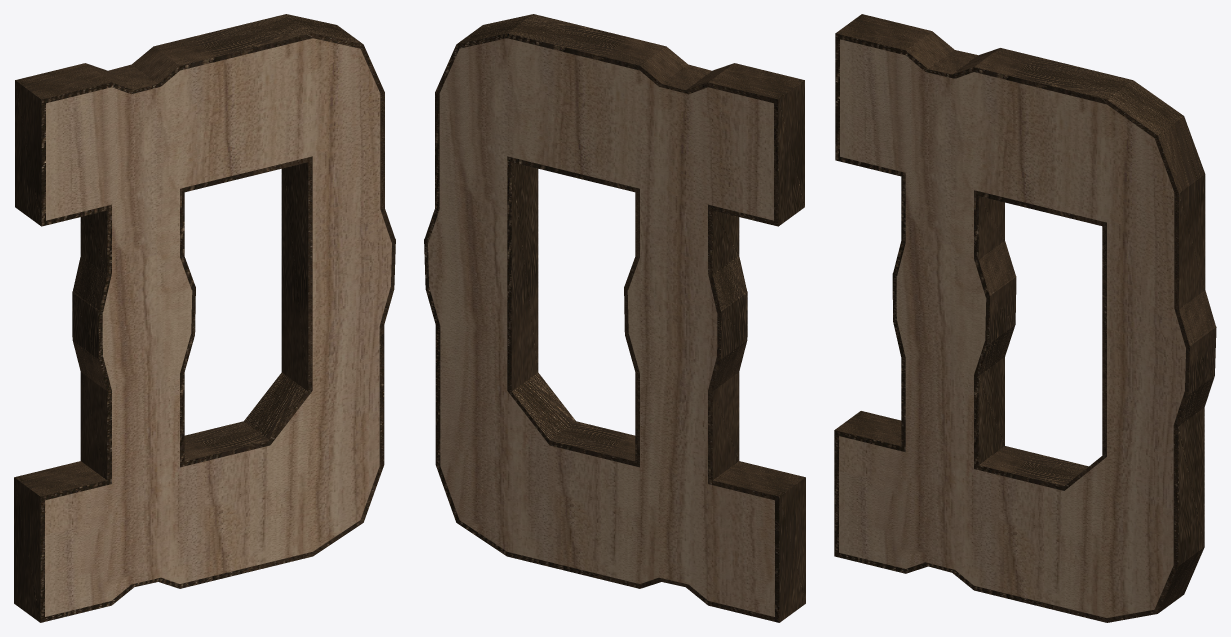
3 renders of one model, left to right at view 1: azimuth 30°, elevation 25°; view 2: azimuth 150°, elevation 25°; view 3: azimuth 330°, elevation 25°, orthographic.
Parts seen in each view (by area): view 1: D, D_outline; view 2: D, D_outline; view 3: D, D_outline.
Part boxes in pixels (box(x1,y1,x2,y2)): D: box(45, 38, 391, 616); D_outline: box(14, 14, 395, 622); D: box(428, 38, 774, 616); D_outline: box(424, 14, 805, 622); D: box(839, 39, 1185, 617); D_outline: box(834, 14, 1216, 622).
Bounding box in the file's own units: 77.47 × 109 × 10.
Materials: 2 (2 with a texture image).
